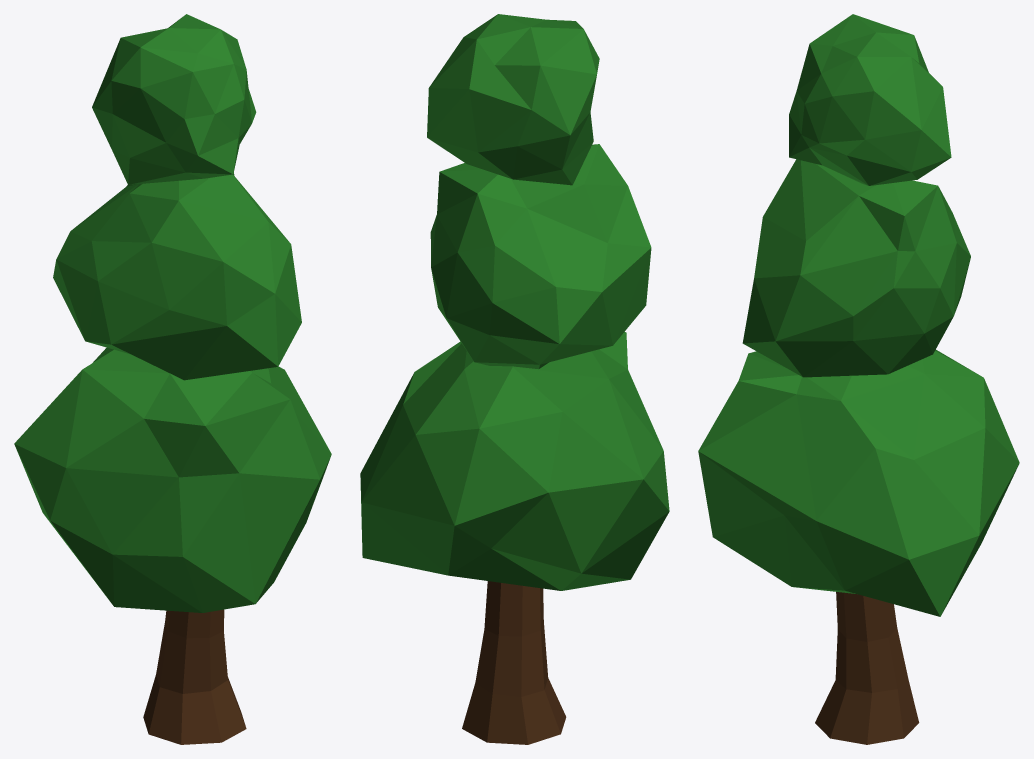
File: Tree3.fbx
The picture shows the model from 3 angles, left to right: view 1: azimuth 30°, elevation 25°; view 2: azimuth 150°, elevation 25°; view 3: azimuth 270°, elevation 25°; orthographic projection. The views are drawn at different scales.
Parts seen in each view (by area): view 1: Cylinder.013; view 2: Cylinder.013; view 3: Cylinder.013.
Boxes of the visible parts, <box> form: Cylinder.013: <box>14,14,331,744</box>; Cylinder.013: <box>360,14,669,744</box>; Cylinder.013: <box>698,14,1019,744</box>.
Bounding box in the file's own units: 218 × 509 × 218.
